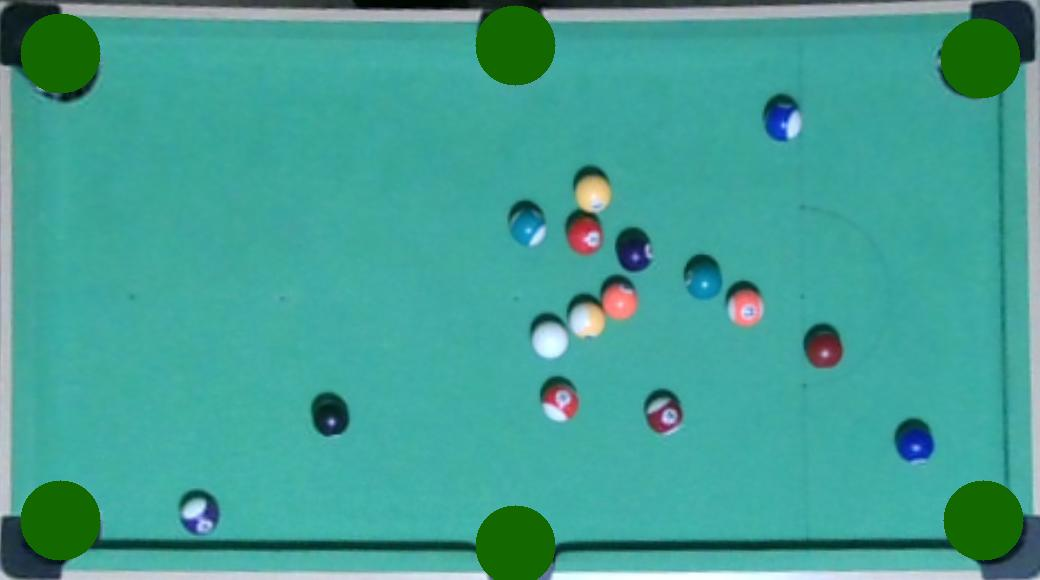Ball: (505, 200, 549, 247), (762, 95, 804, 141), (614, 229, 655, 271), (180, 495, 221, 536), (805, 326, 845, 368), (684, 257, 724, 299), (540, 381, 579, 423), (565, 214, 604, 254), (644, 394, 682, 435), (573, 173, 612, 212), (569, 301, 607, 341), (600, 282, 639, 319), (533, 322, 571, 359), (898, 429, 936, 465), (728, 292, 765, 328), (315, 399, 349, 438)
